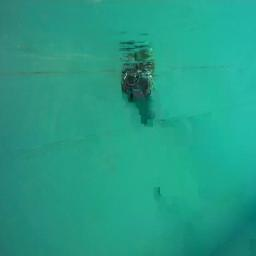Full: (121, 70, 155, 100), (122, 68, 156, 96)
